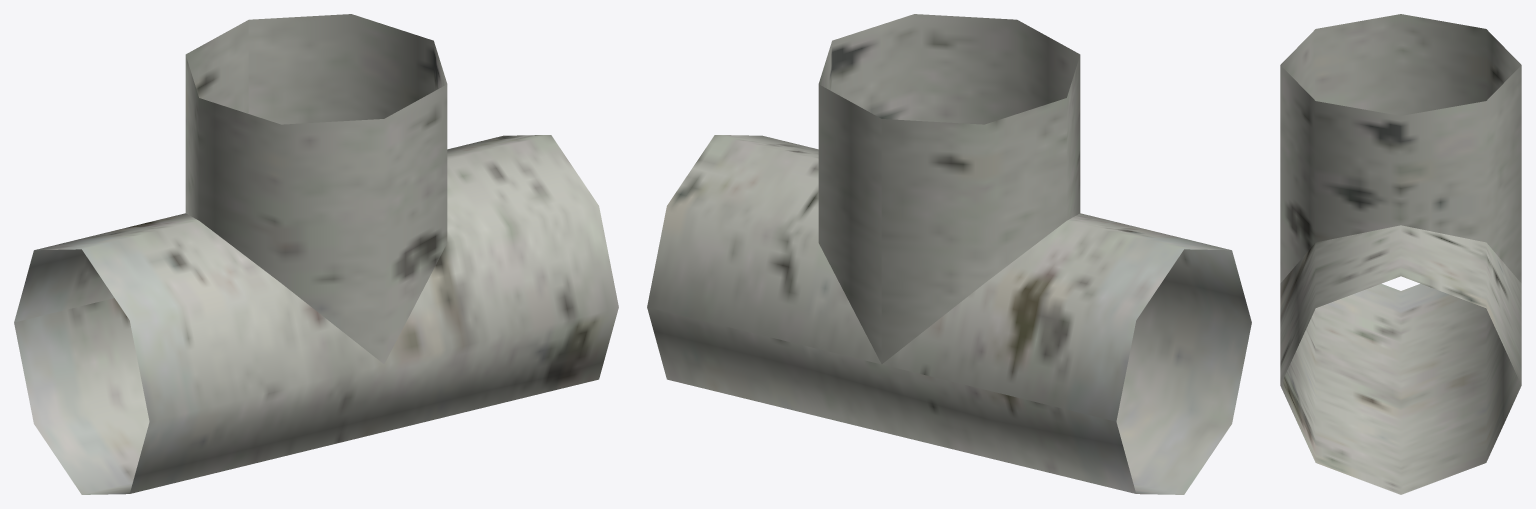
The model's file is p6_garage_pipes_t_LOD1.obj.
3 views of the same model, side by side, from view 1: azimuth 30°, elevation 25°; view 2: azimuth 150°, elevation 25°; view 3: azimuth 270°, elevation 25° (orthographic). The views are drawn at different scales.
Parts seen in each view (by area): view 1: mtl_p6_pipes_garage; view 2: mtl_p6_pipes_garage; view 3: mtl_p6_pipes_garage.
Part boxes in pixels (x1,y1,x2,y2): mtl_p6_pipes_garage: [14, 14, 618, 494]; mtl_p6_pipes_garage: [647, 14, 1251, 494]; mtl_p6_pipes_garage: [1280, 14, 1521, 494].
Size of the model in its own units: 10.65 by 7.99 by 5.32.
